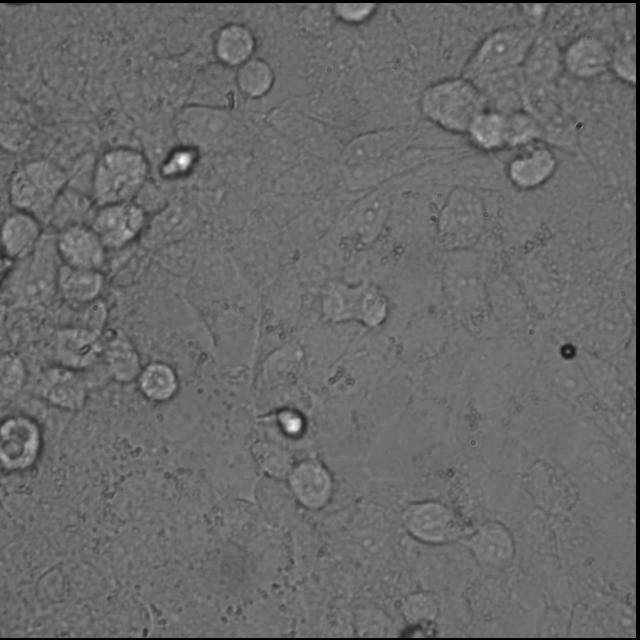microbeads: (560, 341, 578, 361)
